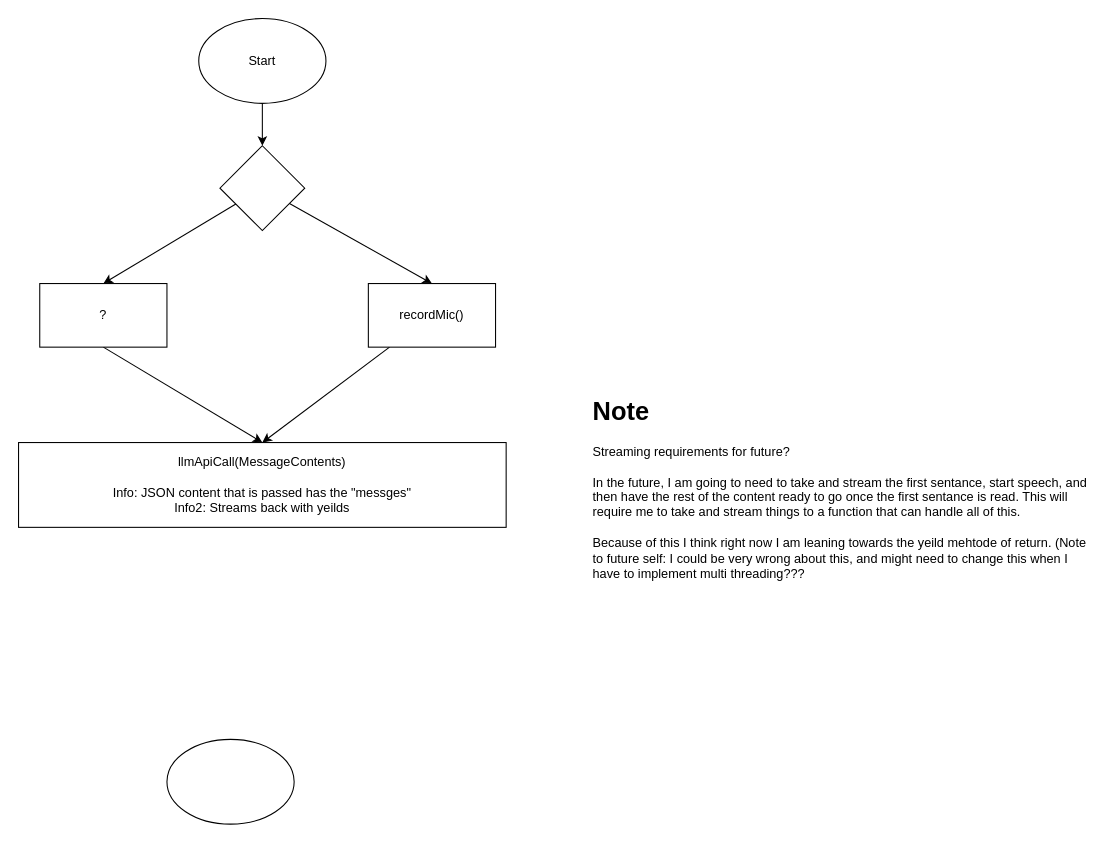
Some shapes in this 1108 by 843 pixel diagram are drawn without their labels. Here are the shapes that lost their labels. From the top down, the centre of each, then its label:
pixel 262 188: Text
pixel 230 781: End
